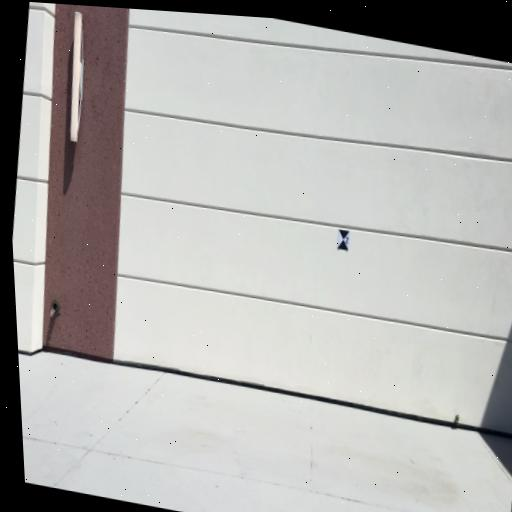target7: (336, 229, 351, 251)
